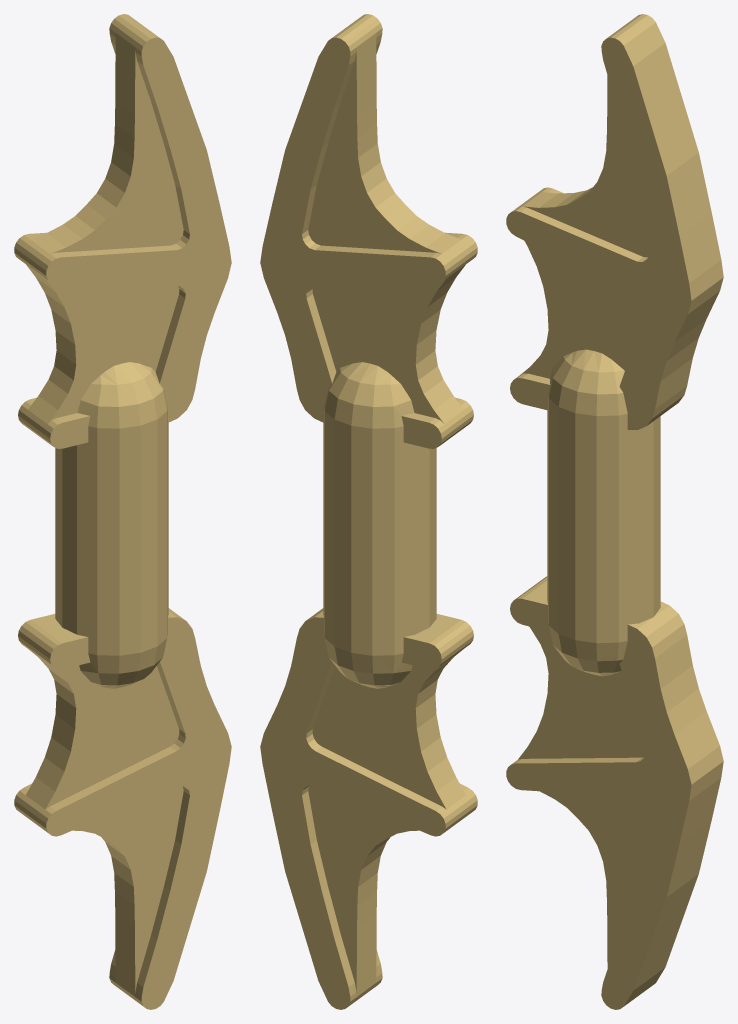
The model's file is batarang.fbx.
3 renders of one model, left to right at view 1: azimuth 30°, elevation 25°; view 2: azimuth 150°, elevation 25°; view 3: azimuth 330°, elevation 25°, orthographic.
Visible parts, largest first — view 1: MB_5-material.089; view 2: MB_5-material.089; view 3: MB_5-material.089.
Boxes of the visible parts, bbox=[...] form: MB_5-material.089: bbox=[14, 14, 231, 1009]; MB_5-material.089: bbox=[260, 14, 477, 1009]; MB_5-material.089: bbox=[506, 14, 723, 1009].
Bounding box in the file's own units: 48.69 × 244 × 26.06.
